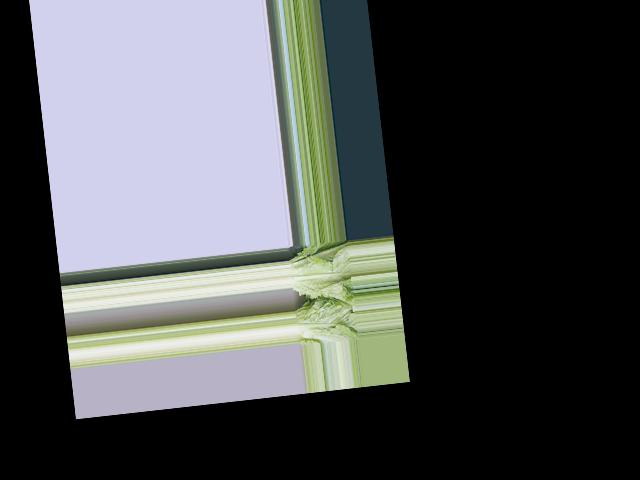lettuce: (293, 298, 355, 343)
